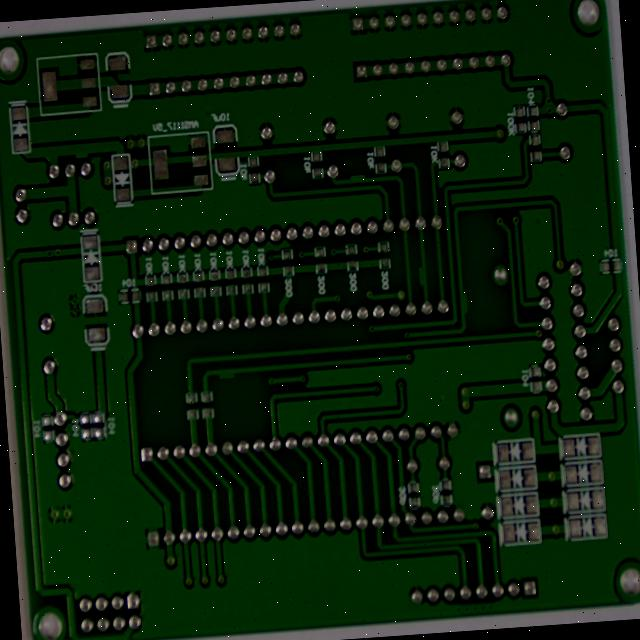spur: (225, 334, 251, 356), (437, 221, 455, 250), (364, 118, 390, 138), (484, 247, 498, 284), (71, 92, 95, 109)
